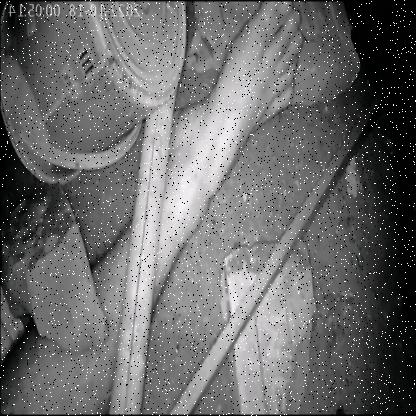leg: (114, 1, 310, 416)
